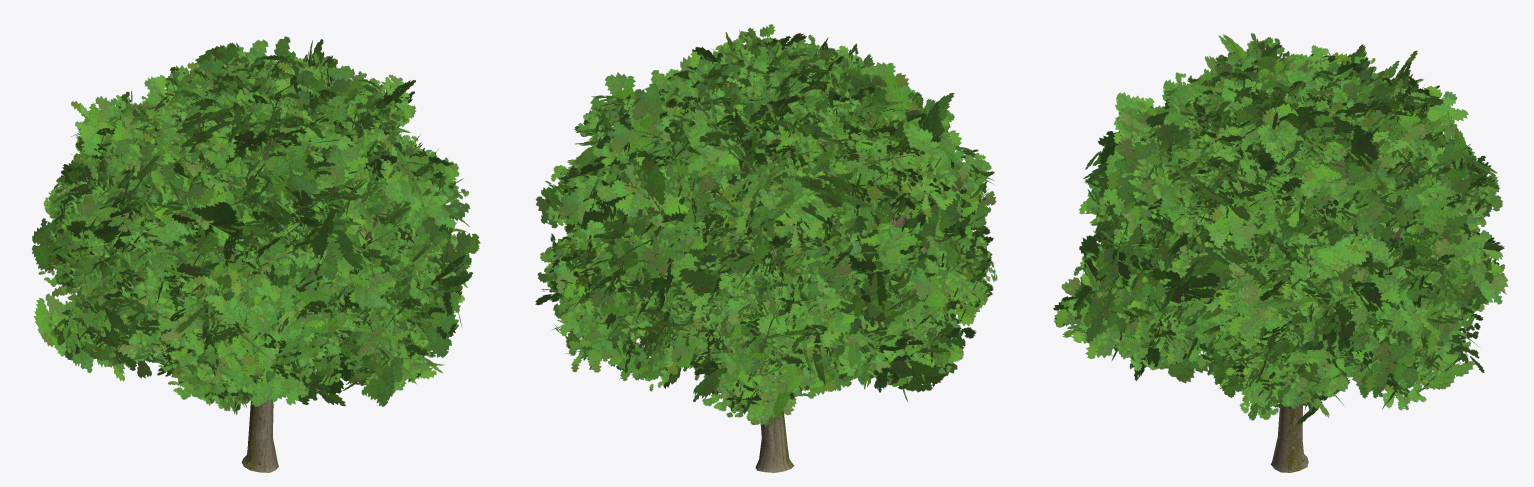
Rendered from oak.gltf.
3 views of the same model, side by side, from view 1: azimuth 30°, elevation 25°; view 2: azimuth 150°, elevation 25°; view 3: azimuth 270°, elevation 25° (orthographic). The views are drawn at different scales.
Visible parts, largest first — view 1: Oak2_L0_Foliage, Oak1_L0_Foliage, Oak0_L0_Foliage, Oak2_L1_Foliage, Oak0_L1_Foliage, Oak1_L1_Foliage, Oak1_L2_Foliage, Oak2_L2_Foliage, Oak0_L4_Foliage, Oak1_L4_Foliage, Oak0_L2_Foliage, Oak2_L5_Foliage (+5 smaller); view 2: Oak0_L0_Foliage, Oak2_L0_Foliage, Oak0_L1_Foliage, Oak1_L0_Foliage, Oak2_L1_Foliage, Oak2_L2_Foliage, Oak1_L1_Foliage, Oak1_L4_Foliage, Oak0_L2_Foliage, Oak0_L4_Foliage, Oak2_L4_Foliage, Oak1_L2_Foliage (+5 smaller); view 3: Oak0_L0_Foliage, Oak2_L0_Foliage, Oak1_L0_Foliage, Oak2_L1_Foliage, Oak2_L4_Foliage, Oak0_L4_Foliage, Oak0_L1_Foliage, Oak1_L1_Foliage, Oak1_L4_Foliage, Oak2_L2_Foliage, Oak0_L2_Foliage, Oak1_L2_Foliage (+5 smaller).
Part boxes in pixels (x1,y1,x2,y2): Oak2_L0_Foliage: (38, 45, 461, 410); Oak1_L0_Foliage: (43, 54, 464, 395); Oak0_L0_Foliage: (47, 53, 469, 392); Oak2_L1_Foliage: (36, 42, 459, 410); Oak0_L1_Foliage: (45, 42, 470, 403); Oak1_L1_Foliage: (47, 55, 471, 393); Oak1_L2_Foliage: (59, 47, 472, 394); Oak2_L2_Foliage: (32, 45, 460, 407); Oak0_L4_Foliage: (51, 46, 480, 414); Oak1_L4_Foliage: (62, 39, 466, 384); Oak0_L2_Foliage: (57, 50, 479, 401); Oak2_L5_Foliage: (33, 40, 452, 408); Oak0_L0_Foliage: (544, 43, 992, 408); Oak2_L0_Foliage: (547, 30, 990, 417); Oak0_L1_Foliage: (537, 37, 992, 410); Oak1_L0_Foliage: (545, 41, 997, 419); Oak2_L1_Foliage: (540, 24, 989, 411); Oak2_L2_Foliage: (548, 36, 996, 400); Oak1_L1_Foliage: (546, 45, 990, 414); Oak1_L4_Foliage: (536, 46, 994, 393); Oak0_L2_Foliage: (542, 52, 994, 418); Oak0_L4_Foliage: (541, 48, 992, 427); Oak2_L4_Foliage: (535, 37, 949, 382); Oak1_L2_Foliage: (542, 43, 993, 411); Oak0_L0_Foliage: (1085, 56, 1499, 408); Oak2_L0_Foliage: (1073, 37, 1498, 409); Oak1_L0_Foliage: (1072, 46, 1498, 419); Oak2_L1_Foliage: (1067, 34, 1506, 403); Oak2_L4_Foliage: (1054, 53, 1503, 407); Oak0_L4_Foliage: (1079, 50, 1483, 424); Oak0_L1_Foliage: (1083, 57, 1494, 412); Oak1_L1_Foliage: (1068, 42, 1504, 420); Oak1_L4_Foliage: (1062, 46, 1499, 409); Oak2_L2_Foliage: (1058, 33, 1504, 400); Oak0_L2_Foliage: (1084, 56, 1499, 419); Oak1_L2_Foliage: (1063, 42, 1478, 406).
Bounding box in the file's own units: 23.35 × 21 × 22.46.
2 materials, 2 textured.
